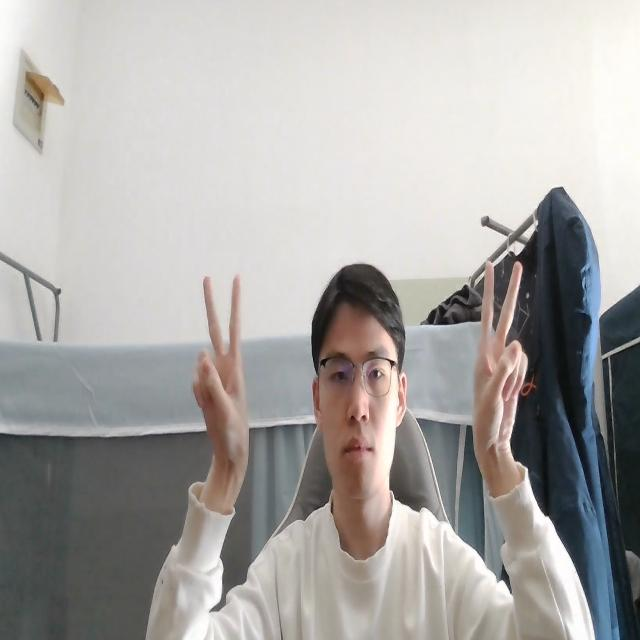yes: (185, 267, 253, 508), (469, 250, 531, 481)
